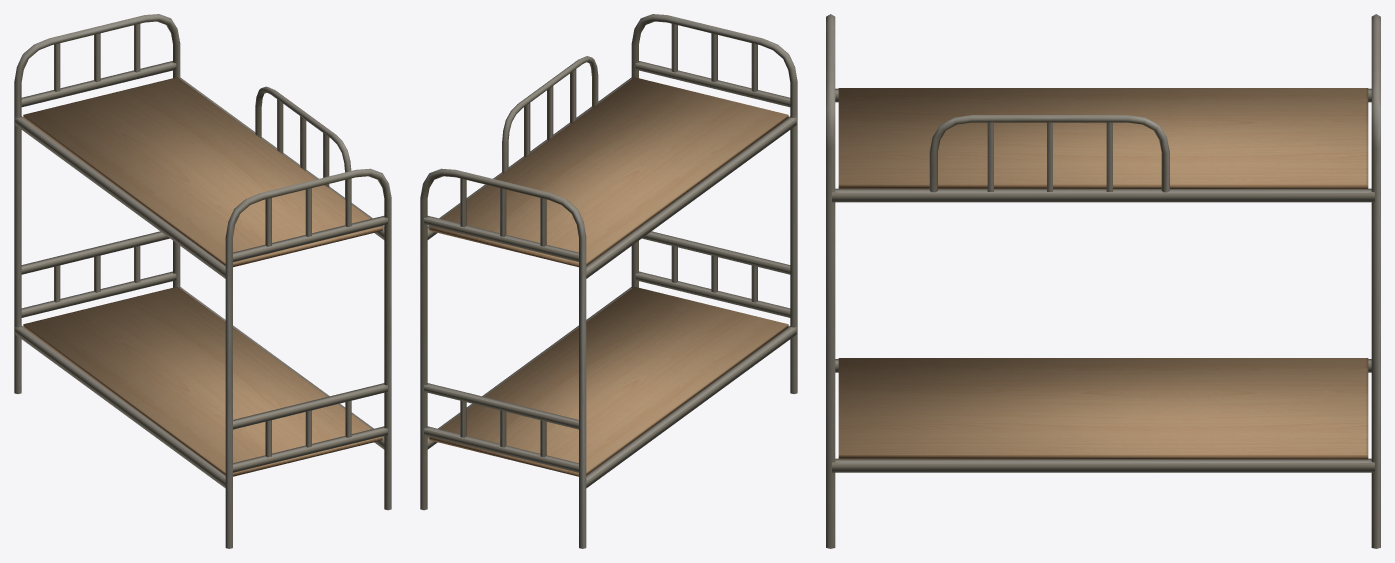
File: CPLZ001.gltf
3 renders of one model, left to right at view 1: azimuth 30°, elevation 25°; view 2: azimuth 150°, elevation 25°; view 3: azimuth 270°, elevation 25°, orthographic. The views are drawn at different scales.
Parts seen in each view (by area): view 1: CPLZ001; view 2: CPLZ001; view 3: CPLZ001.
Part boxes in pixels (bbox=[...]): CPLZ001: bbox=[14, 14, 391, 548]; CPLZ001: bbox=[420, 14, 797, 548]; CPLZ001: bbox=[826, 14, 1380, 548].
Bounding box in the file's own units: 88.12 × 176 × 198.
Materials: 1 (1 with a texture image).
